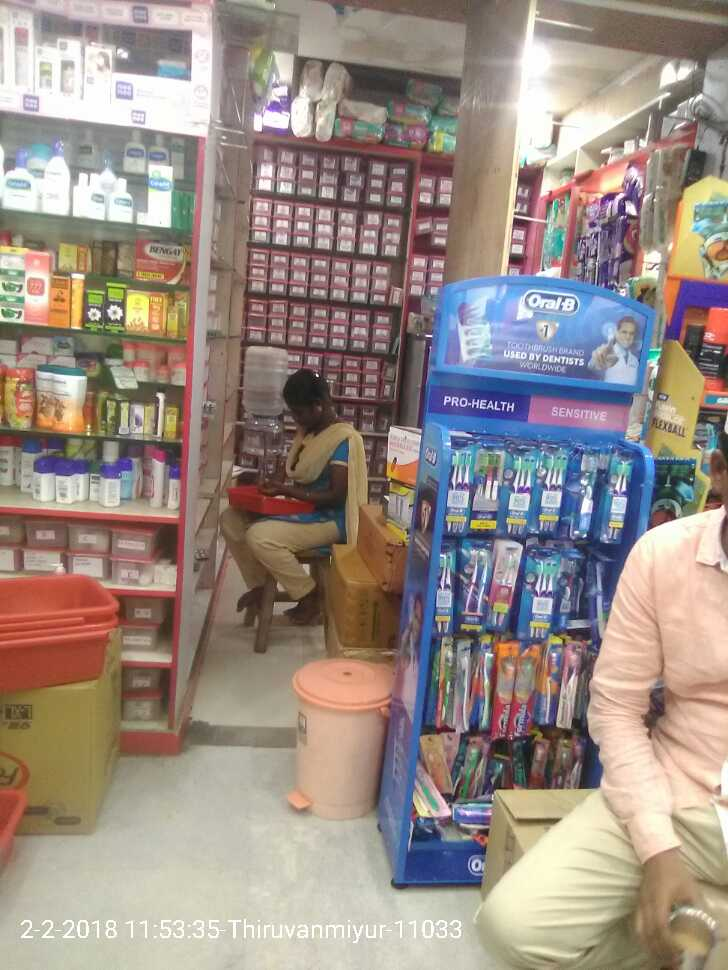oralb: (440, 444, 631, 544), (439, 541, 570, 637)
